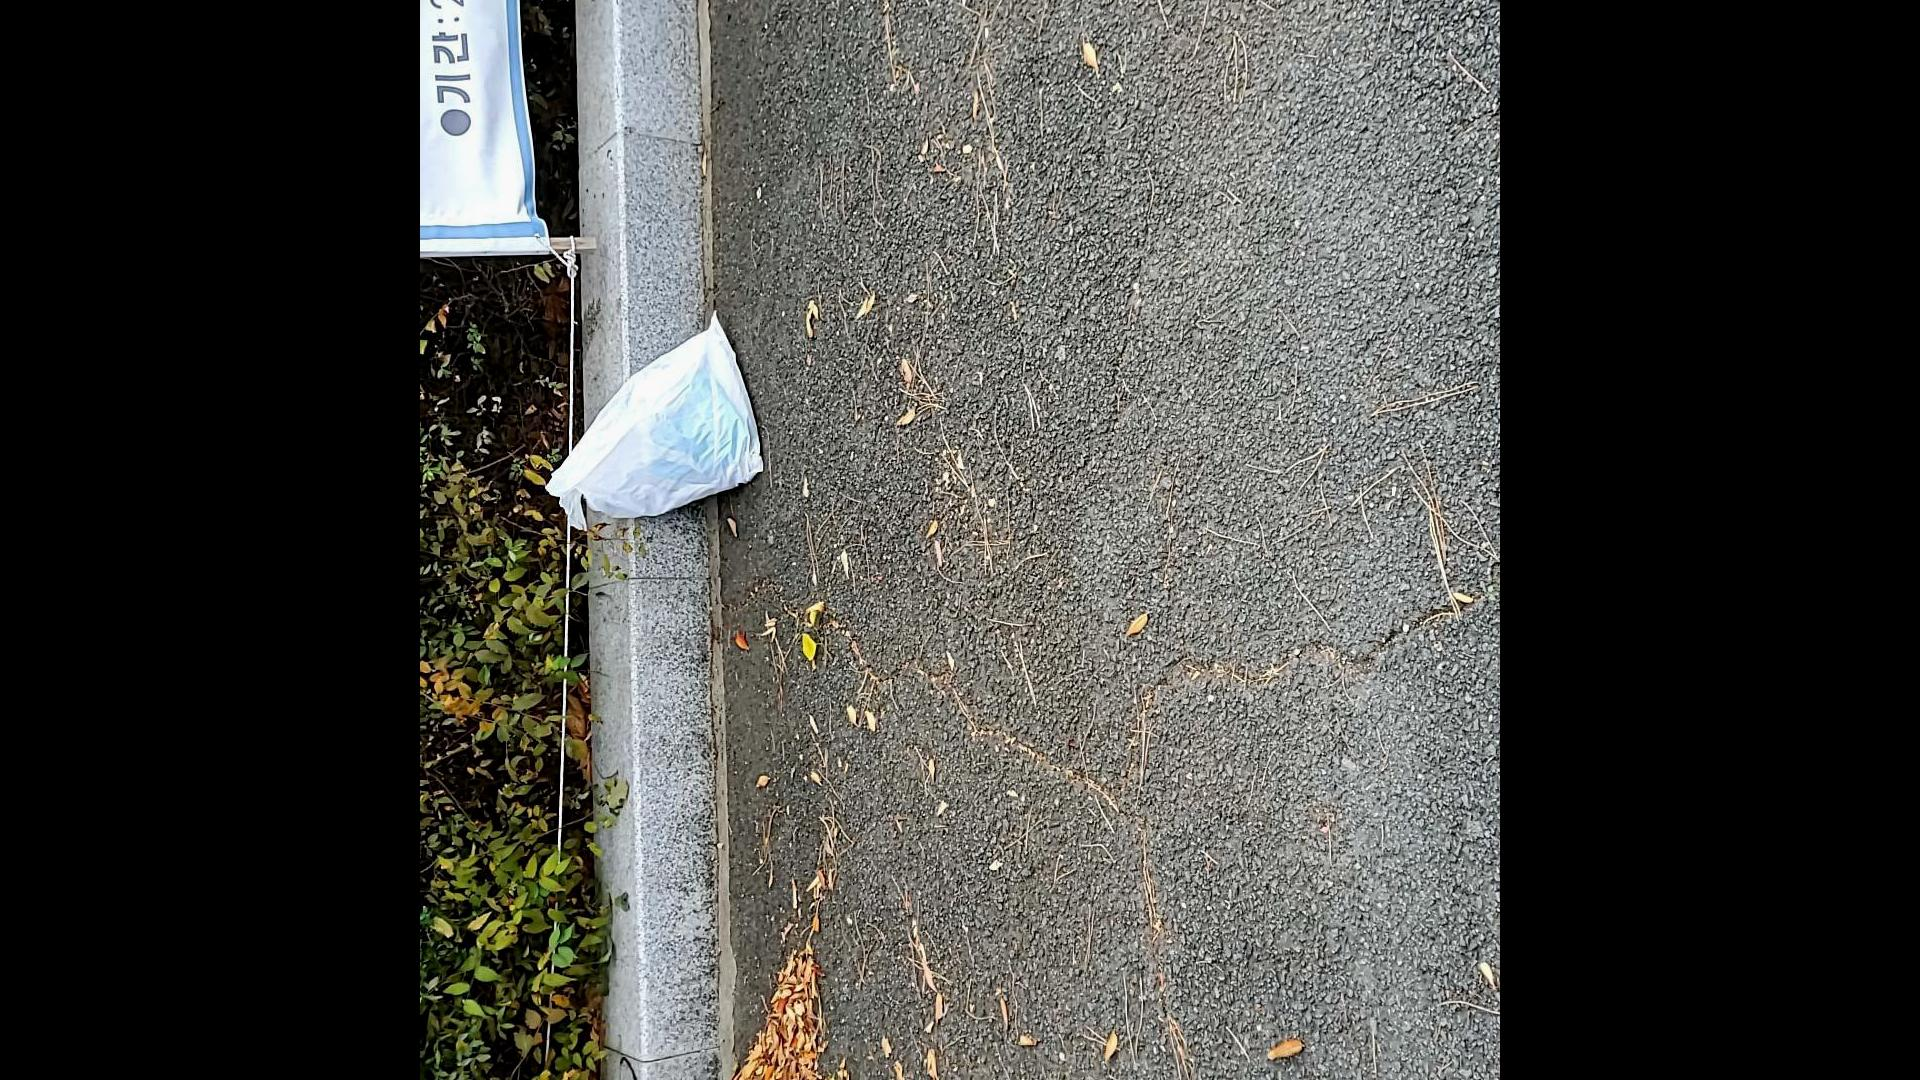white_bag: (538, 297, 785, 533)
